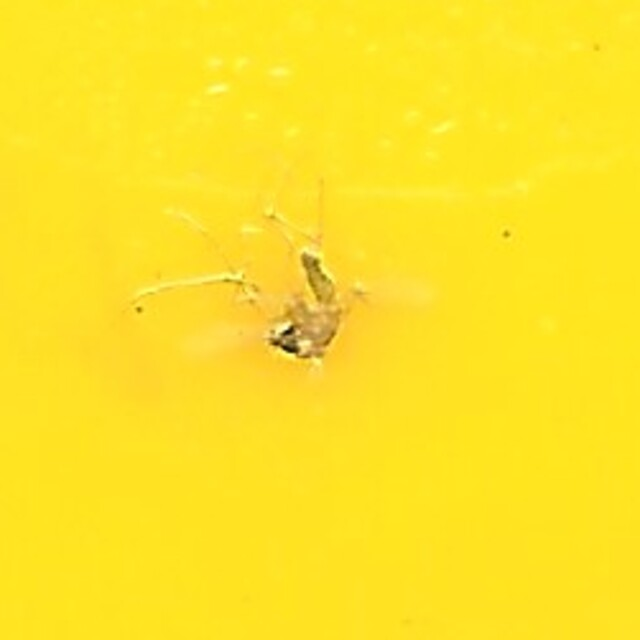Nematocera: (255, 254, 385, 386)
